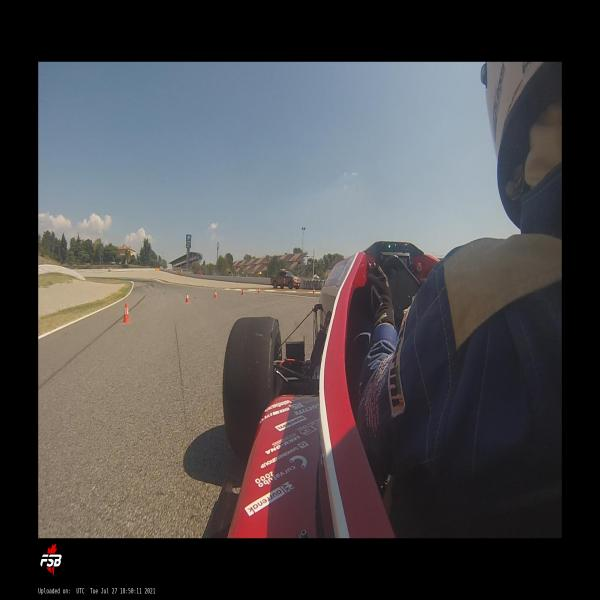orange_cone: (122, 302, 131, 324), (184, 292, 190, 304), (214, 290, 217, 299), (241, 288, 244, 296), (258, 288, 261, 294), (313, 287, 315, 294)
